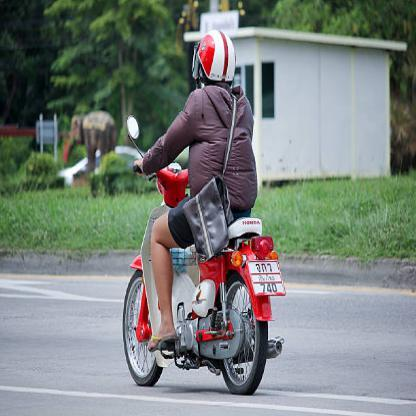Motorcycle: (118, 148, 275, 399)
